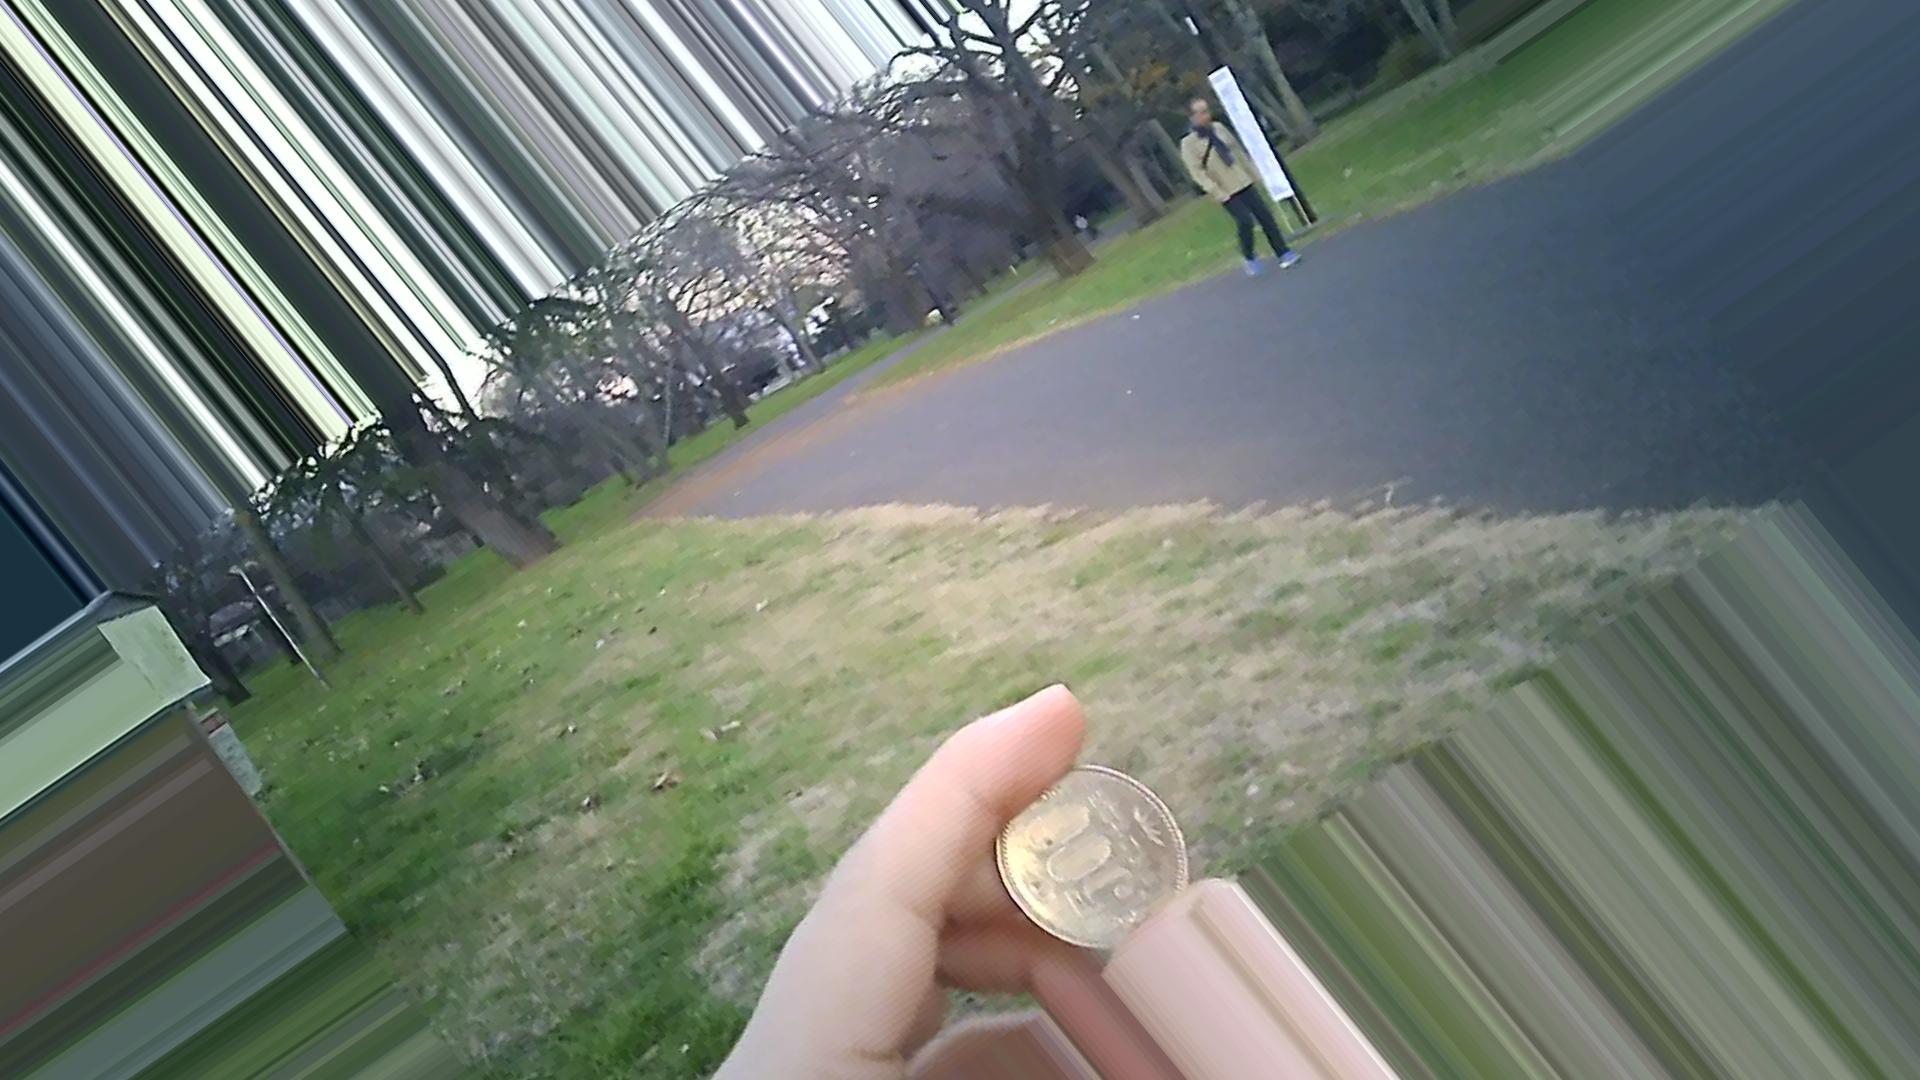500 Yen: (973, 744, 1193, 949)
